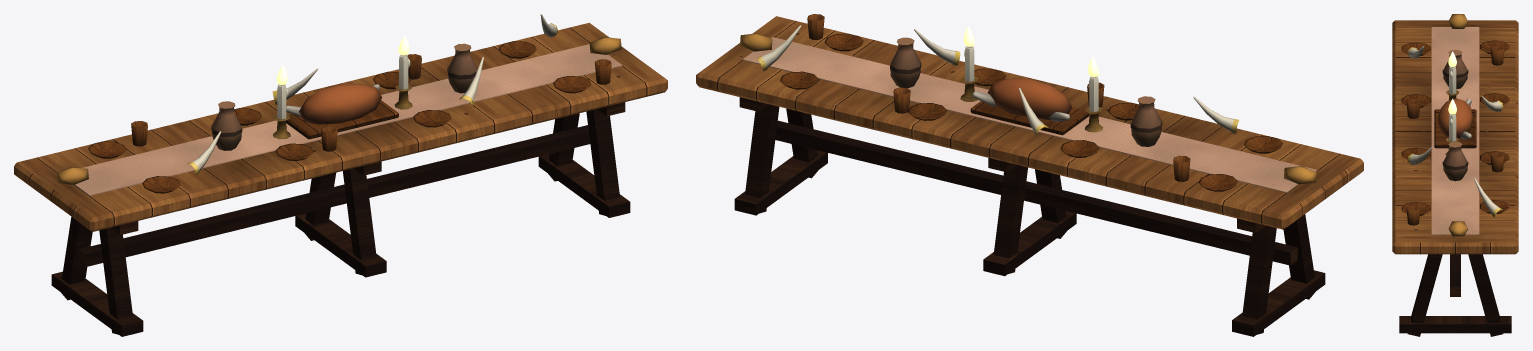
File: interior_long_table.glb
3 views of the same model, side by side, from view 1: azimuth 30°, elevation 25°; view 2: azimuth 150°, elevation 25°; view 3: azimuth 270°, elevation 25° (orthographic). The views are drawn at different scales.
Visible parts, largest first — view 1: interior_long_table; view 2: interior_long_table; view 3: interior_long_table.
Boxes of the visible parts, bbox=[...] form: interior_long_table: bbox=[14, 14, 667, 336]; interior_long_table: bbox=[696, 14, 1363, 336]; interior_long_table: bbox=[1392, 14, 1518, 336].
Bounding box in the file's own units: 3.8 × 1.3 × 0.9.
Materials: 8 (5 with a texture image).
